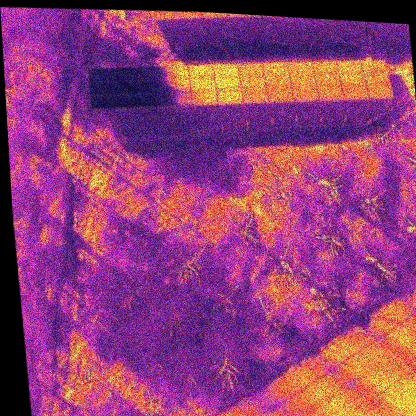Hotspot: (315, 73, 341, 90), (265, 74, 292, 90), (240, 74, 265, 91)
Normal: (191, 89, 218, 108), (267, 87, 294, 105), (293, 86, 320, 104), (214, 75, 241, 93), (216, 89, 243, 106), (342, 85, 369, 102), (191, 76, 217, 93), (238, 61, 264, 78), (241, 88, 268, 104), (367, 85, 394, 101), (311, 60, 338, 76), (317, 87, 345, 102), (263, 60, 289, 76), (287, 61, 313, 77), (336, 60, 362, 76), (339, 73, 366, 88), (362, 60, 387, 76), (290, 73, 316, 88), (213, 63, 239, 78), (365, 73, 390, 88), (189, 63, 213, 77)
Shadow: (114, 93, 144, 111), (141, 90, 171, 108), (191, 89, 218, 108), (139, 76, 168, 93), (113, 79, 141, 96), (111, 64, 139, 81), (166, 75, 191, 93), (90, 93, 116, 110), (89, 79, 115, 96), (138, 63, 167, 78), (169, 89, 194, 106), (88, 68, 113, 81), (166, 64, 190, 77)
